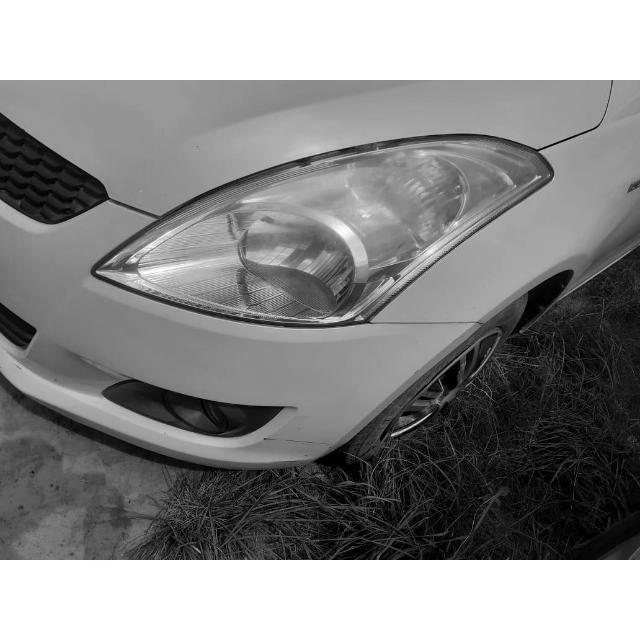front-bumper-dent: (141, 287, 423, 471)
